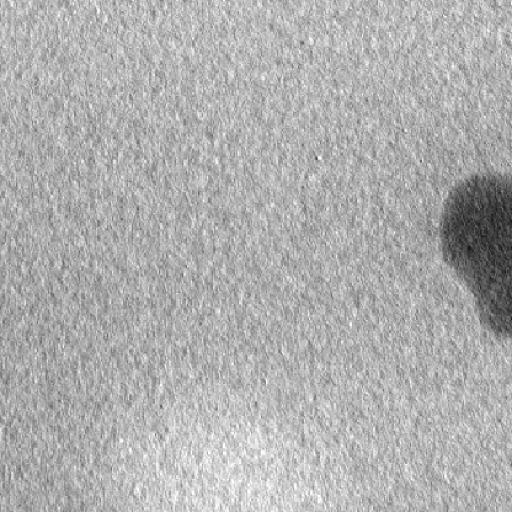Nanoparticles: (440, 170, 512, 342)
